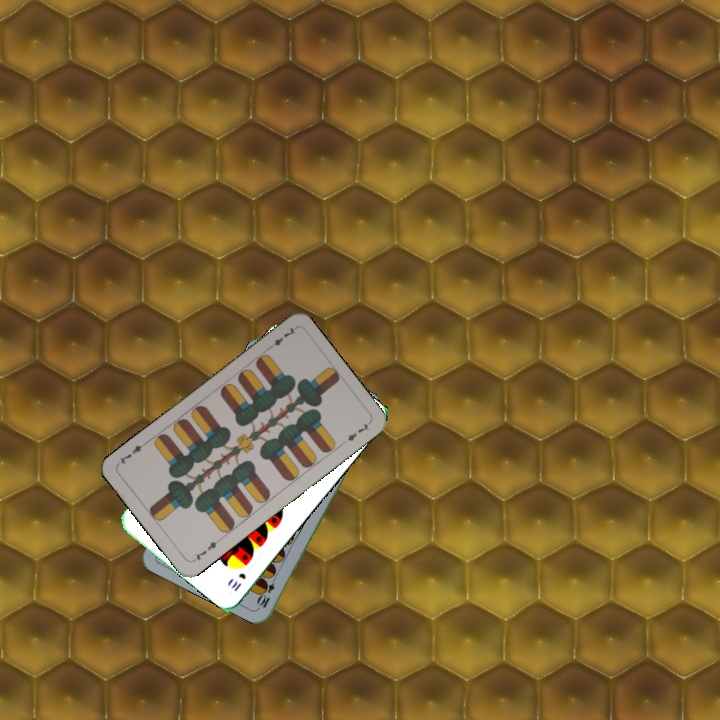E10: (254, 571, 279, 610)
E7: (263, 323, 298, 353), (189, 535, 223, 564)
S10: (227, 569, 248, 594)
